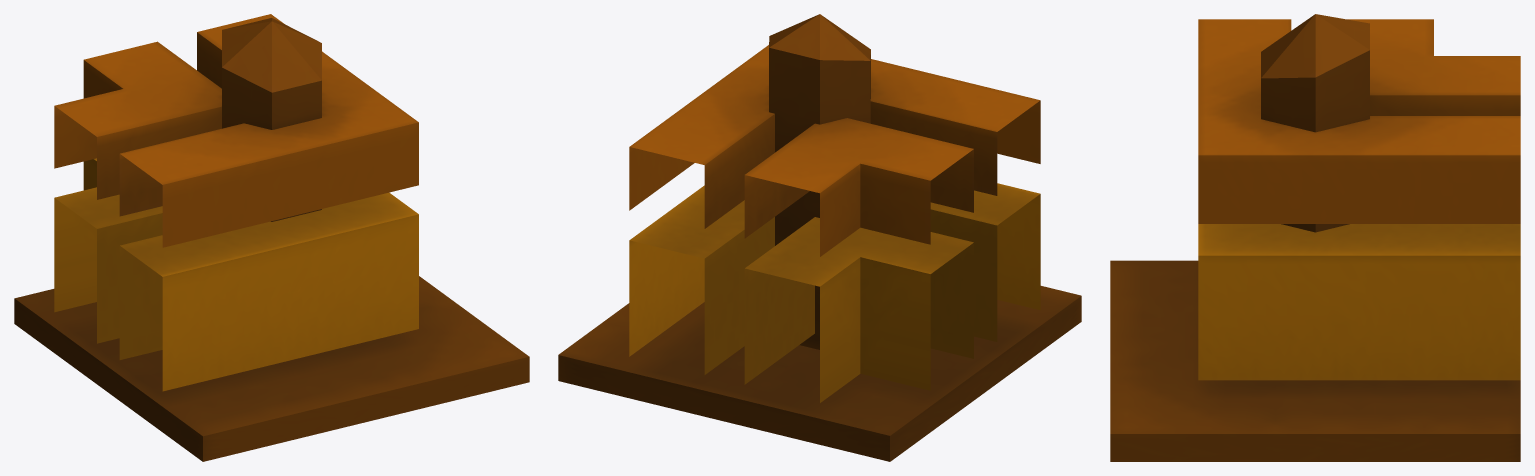
The model's file is BarriereBois_L.FBX.
3 renders of one model, left to right at view 1: azimuth 30°, elevation 25°; view 2: azimuth 150°, elevation 25°; view 3: azimuth 270°, elevation 25°, orthographic. The views are drawn at different scales.
Parts seen in each view (by area): view 1: BarriereBois_L; view 2: BarriereBois_L; view 3: BarriereBois_L.
Part boxes in pixels (bbox=[...]): BarriereBois_L: bbox=[14, 14, 529, 461]; BarriereBois_L: bbox=[558, 14, 1081, 461]; BarriereBois_L: bbox=[1110, 14, 1520, 461].
Size of the model in its own units: 1 by 0.9713 by 1.
